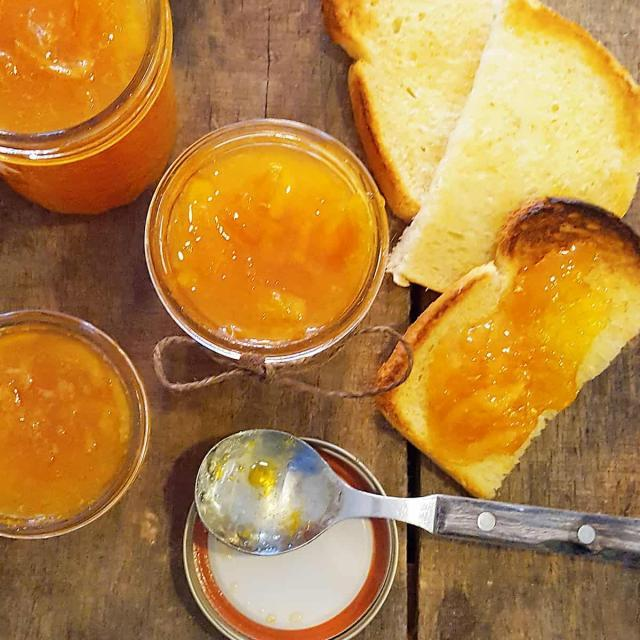Spread: (408, 242, 622, 476)
